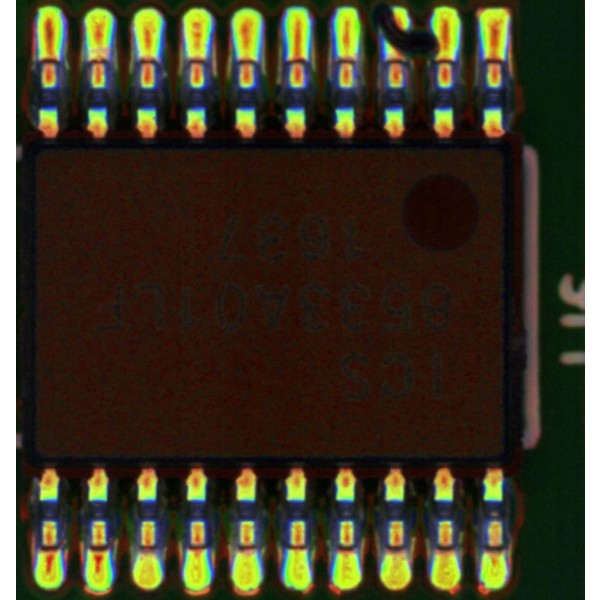Bad_podu: (91, 537, 105, 569), (190, 537, 205, 566), (41, 42, 57, 68), (42, 537, 55, 569), (487, 538, 501, 564), (291, 46, 306, 70), (487, 46, 502, 70), (439, 536, 452, 561), (390, 536, 403, 559), (340, 539, 354, 560)
